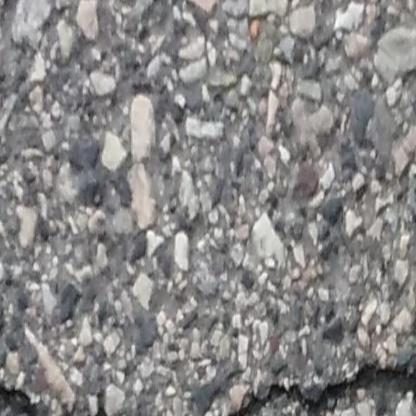Cracks: (209, 351, 416, 416), (0, 372, 140, 416)
